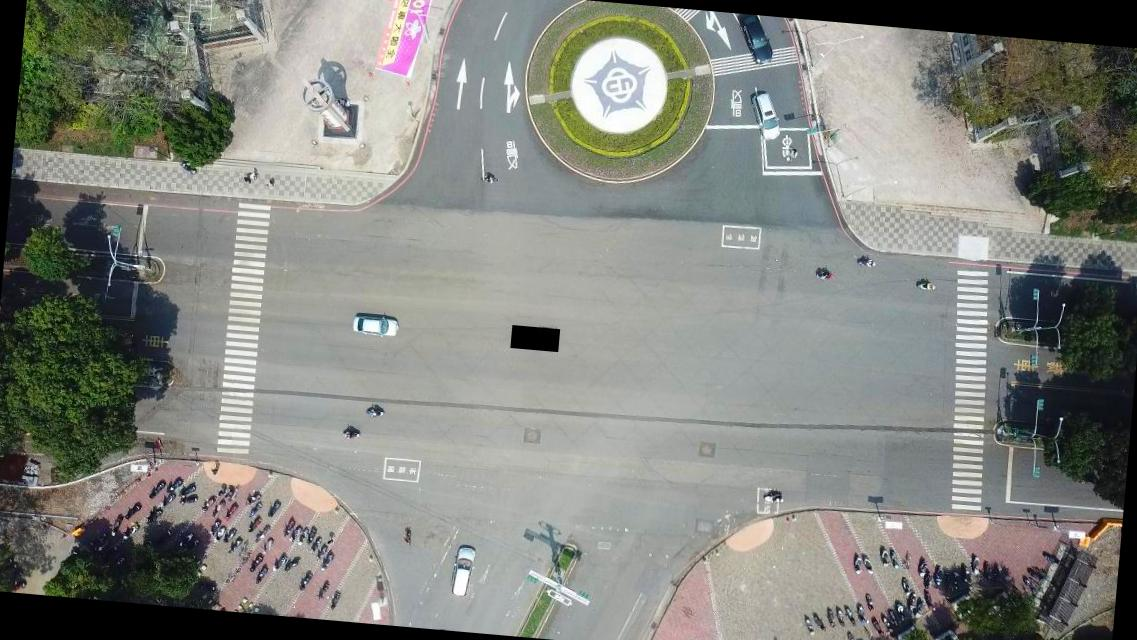vehicle: (732, 14, 775, 66), (746, 89, 784, 143), (448, 544, 479, 601), (350, 311, 400, 340)
